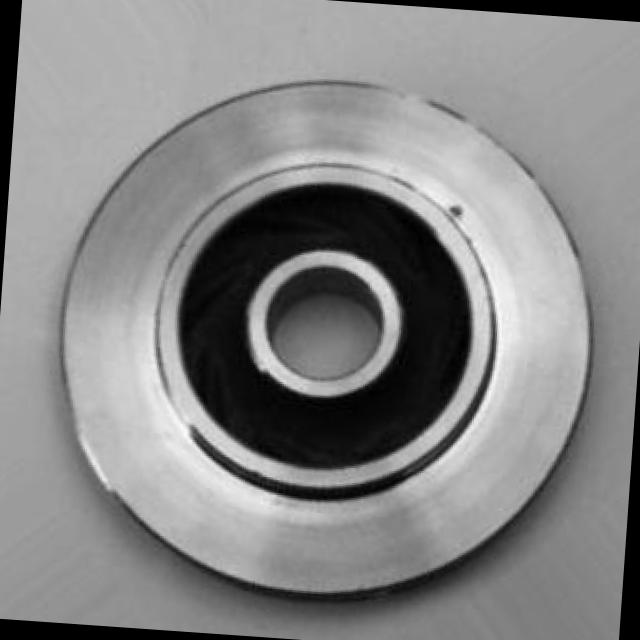Defect: (444, 186, 474, 227)
